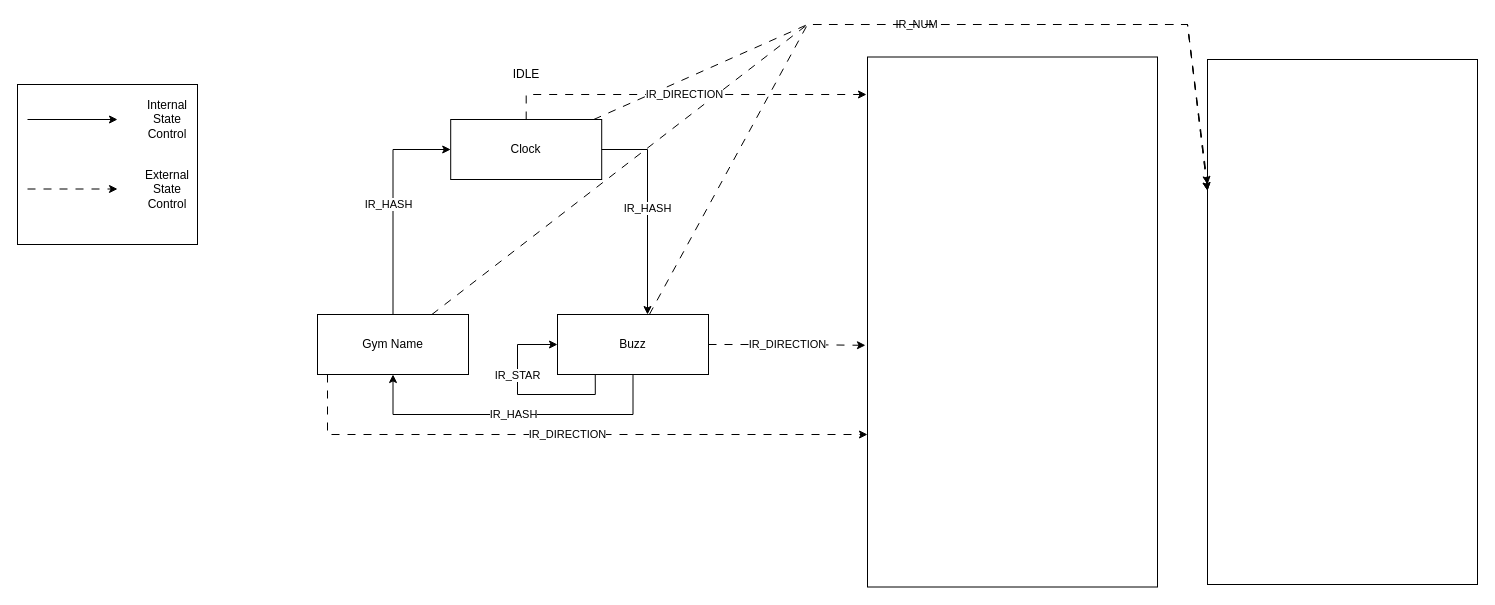
The diagram is 1495 pixels wide and 605 high, and some of its shapes have lost their labels. Each missing label, with the centre of its shape:
CONFIGURE PROGRAM: (1342,321)
NAVIGATE MENU: (1012,321)
